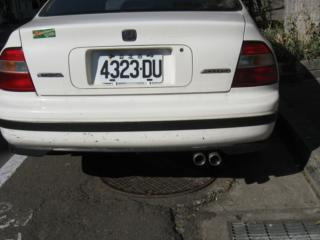plate: (95, 50, 165, 83)
